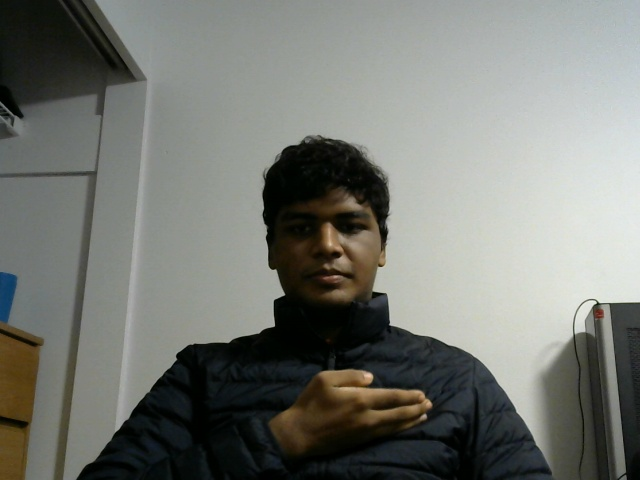Our: (267, 364, 438, 458)
